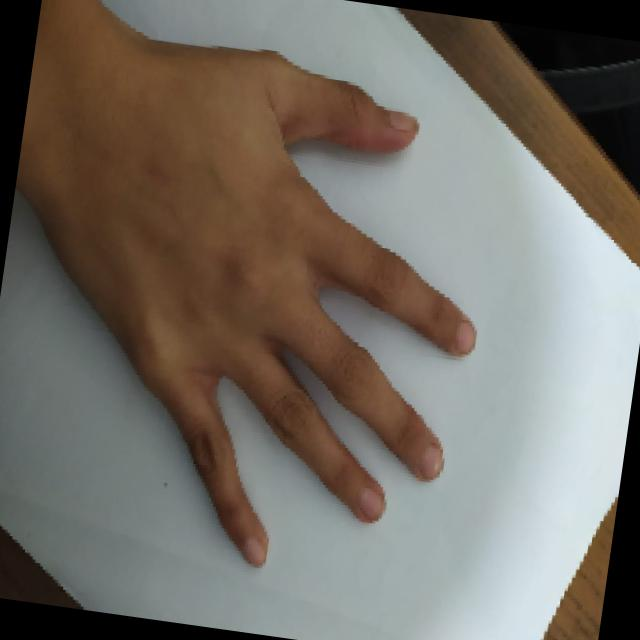Nail: (360, 488, 385, 522), (423, 446, 444, 480), (455, 321, 476, 355), (244, 539, 265, 567), (388, 111, 416, 131)
